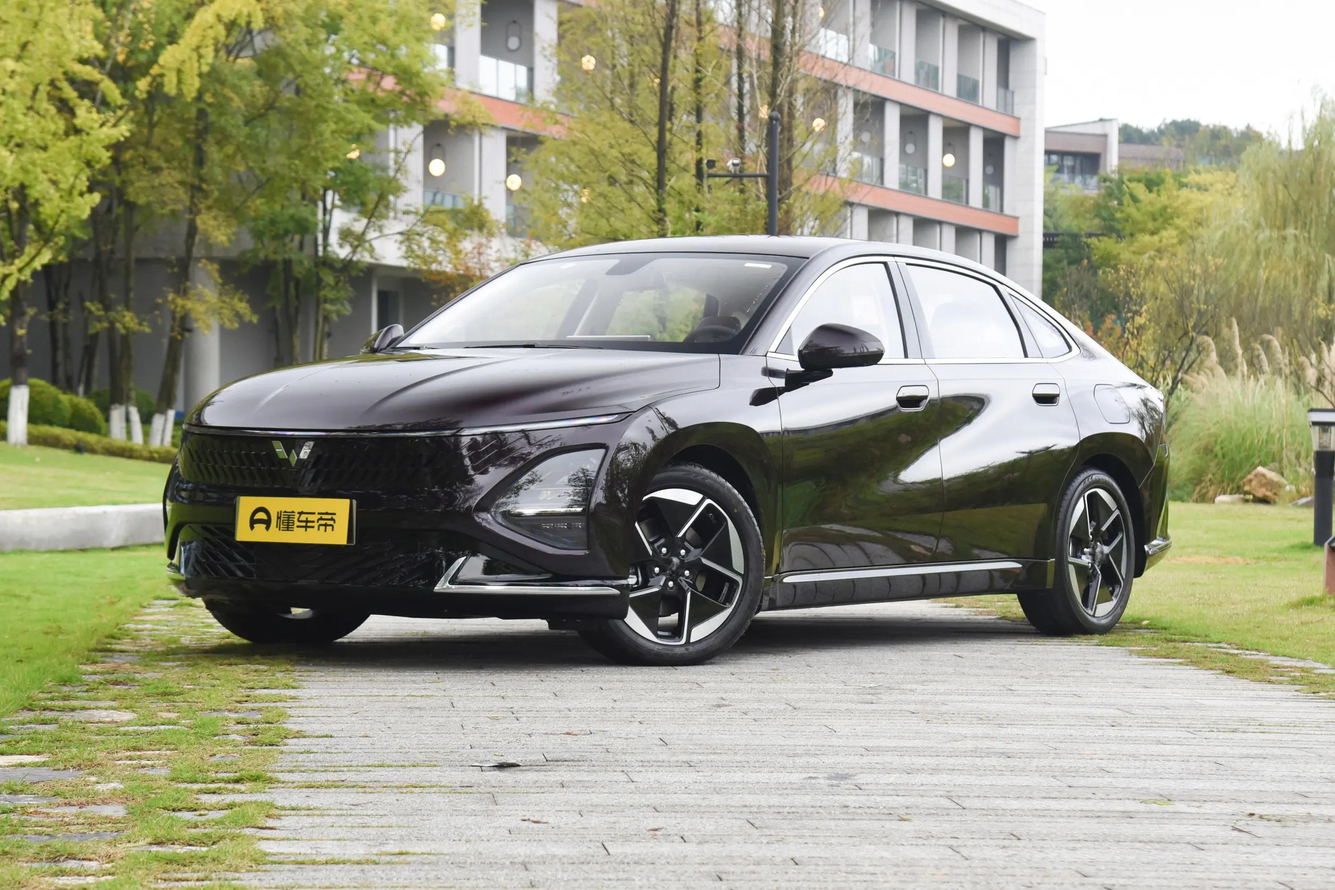SGMW: (272, 441, 315, 466)
